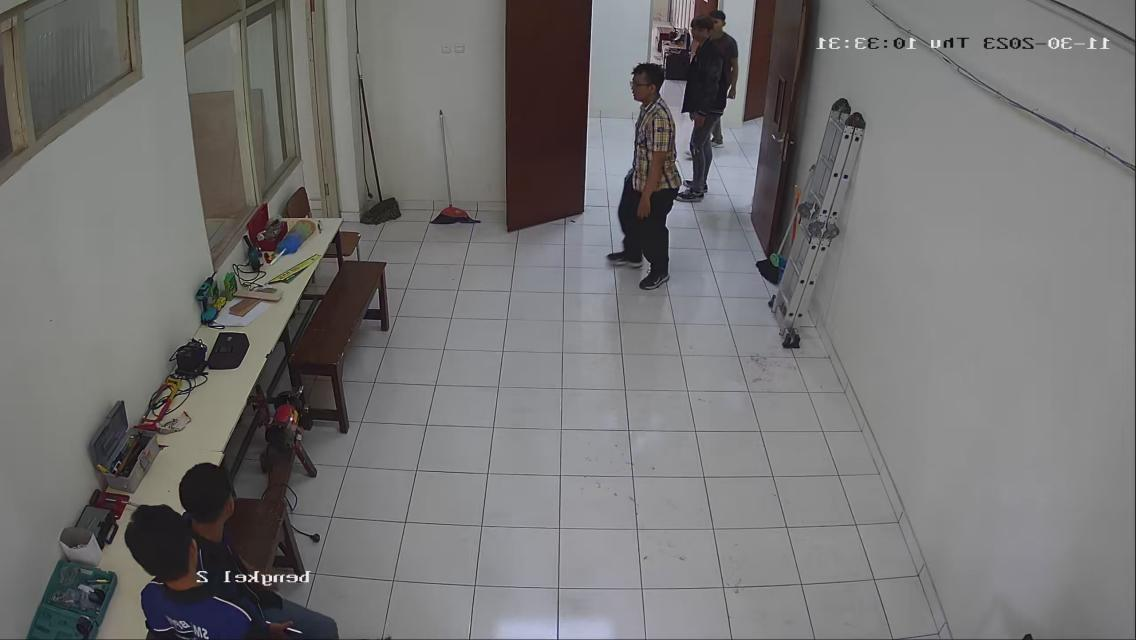Person-Crowd: (593, 56, 680, 298), (667, 8, 739, 206)
